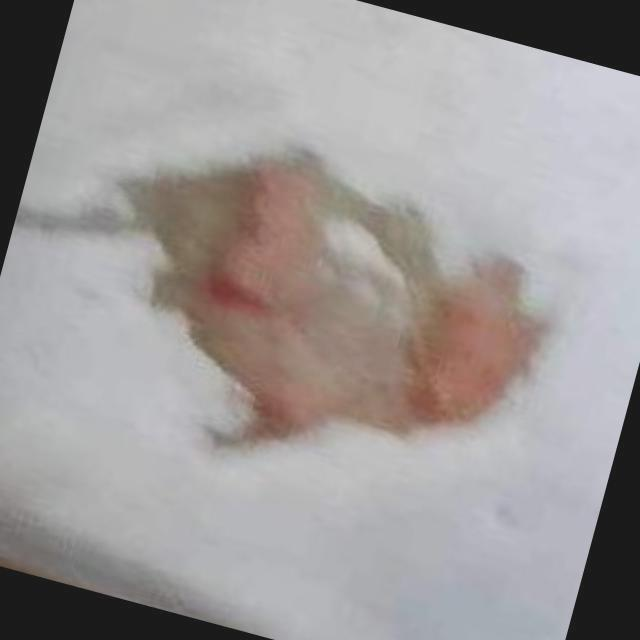General: (3, 1, 639, 636)
Infectious: (115, 143, 551, 445)
